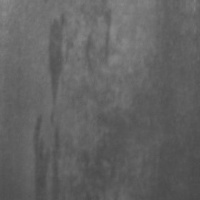inclusion: (45, 7, 80, 121), (28, 110, 67, 196), (83, 7, 119, 79)
